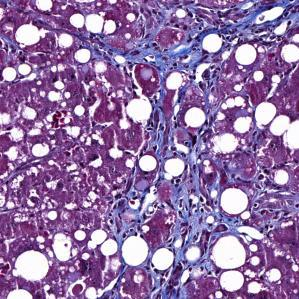fibrosis: (136, 136, 245, 232), (119, 33, 220, 91), (152, 241, 222, 294)
